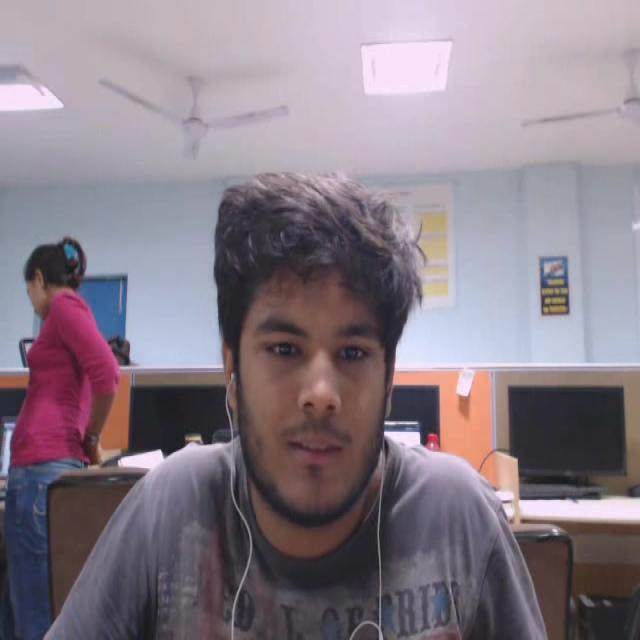Engaged: (184, 147, 452, 601)
